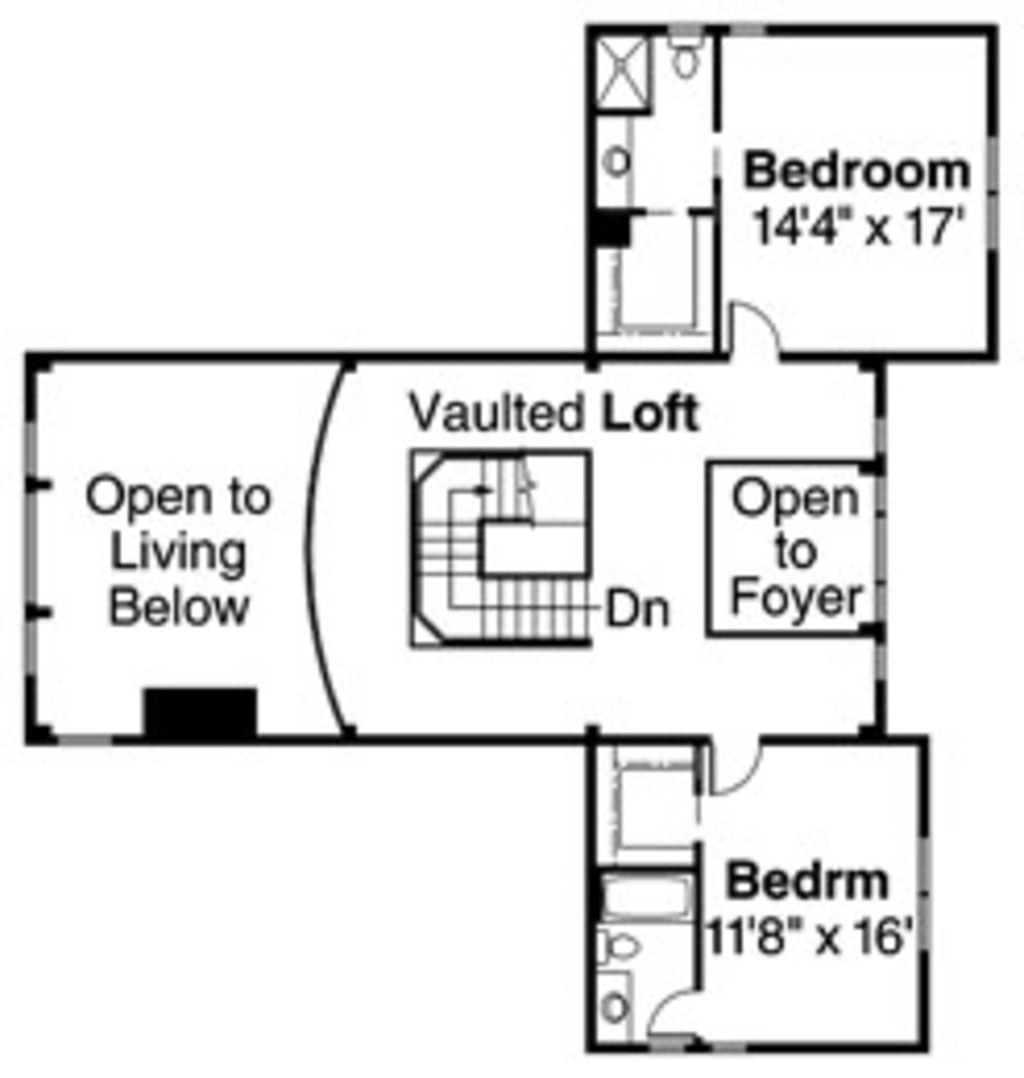door: (695, 726, 764, 799), (727, 286, 784, 369), (644, 981, 717, 1041), (724, 298, 782, 368)
large_sink: (659, 16, 712, 86), (584, 921, 640, 969)
small_sink: (587, 114, 647, 209), (594, 109, 635, 214), (590, 964, 635, 1043)
stairs: (394, 438, 619, 663)
tub: (594, 859, 700, 928)
window: (980, 138, 1009, 248), (914, 833, 937, 948), (727, 16, 772, 41)
